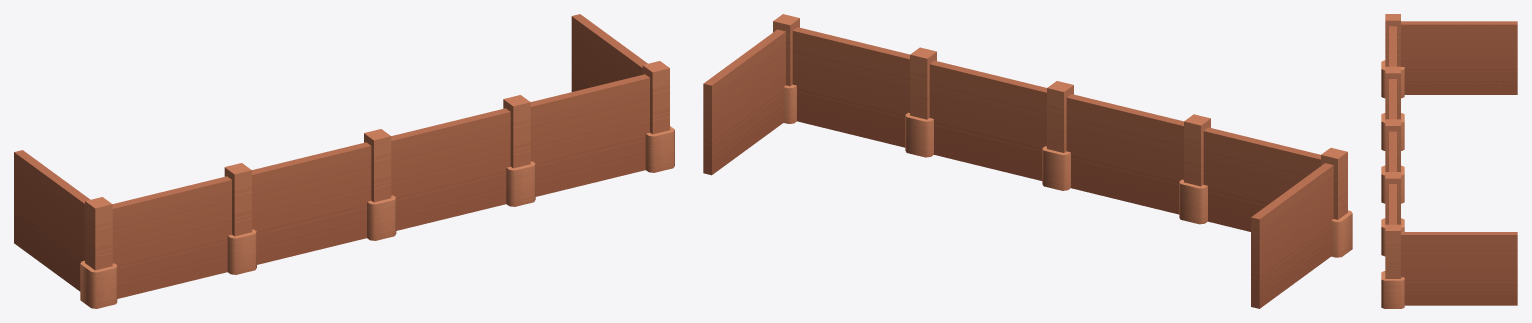
Rendered from fence-1x4.glb.
3 renders of one model, left to right at view 1: azimuth 30°, elevation 25°; view 2: azimuth 150°, elevation 25°; view 3: azimuth 270°, elevation 25°, orthographic. The views are drawn at different scales.
Visible parts, largest first — view 1: fence-1x4; view 2: fence-1x4; view 3: fence-1x4.
Part boxes in pixels (box(x1,y1,x2,y2)): fence-1x4: box(14, 14, 674, 308); fence-1x4: box(703, 14, 1352, 308); fence-1x4: box(1381, 14, 1517, 308).
Size of the model in its own units: 1.68 by 0.27 by 0.4375.
Materials: 1 (1 with a texture image).
